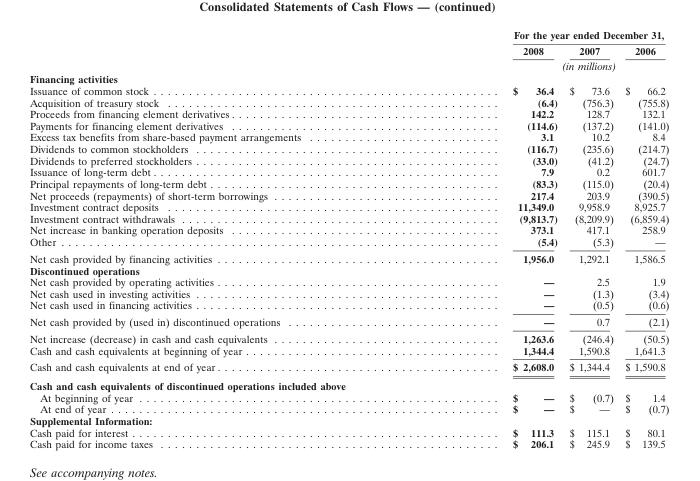table: (28, 28, 668, 449)
table column: (28, 28, 406, 449), (406, 28, 563, 449), (563, 28, 618, 449), (618, 28, 668, 449)
table column header: (28, 28, 668, 72)
table projected row header: (28, 376, 668, 391), (28, 72, 668, 84), (28, 414, 668, 426), (28, 264, 668, 275)
table row: (28, 358, 668, 376), (28, 313, 668, 329), (28, 42, 668, 57), (28, 57, 668, 72), (28, 249, 668, 264), (28, 298, 668, 313), (28, 329, 668, 344), (28, 376, 668, 391), (28, 28, 668, 42), (28, 235, 668, 249), (28, 344, 668, 358), (28, 72, 668, 84), (28, 84, 668, 96), (28, 107, 668, 119), (28, 130, 668, 142), (28, 142, 668, 154), (28, 165, 668, 177), (28, 177, 668, 189), (28, 200, 668, 212), (28, 223, 668, 235), (28, 275, 668, 287), (28, 402, 668, 414), (28, 414, 668, 426), (28, 437, 668, 449), (28, 96, 668, 107), (28, 119, 668, 130), (28, 154, 668, 165), (28, 189, 668, 200), (28, 212, 668, 223), (28, 264, 668, 275), (28, 287, 668, 298), (28, 391, 668, 402), (28, 426, 668, 437)
table spanning cell: (406, 57, 668, 72), (406, 28, 668, 42)
